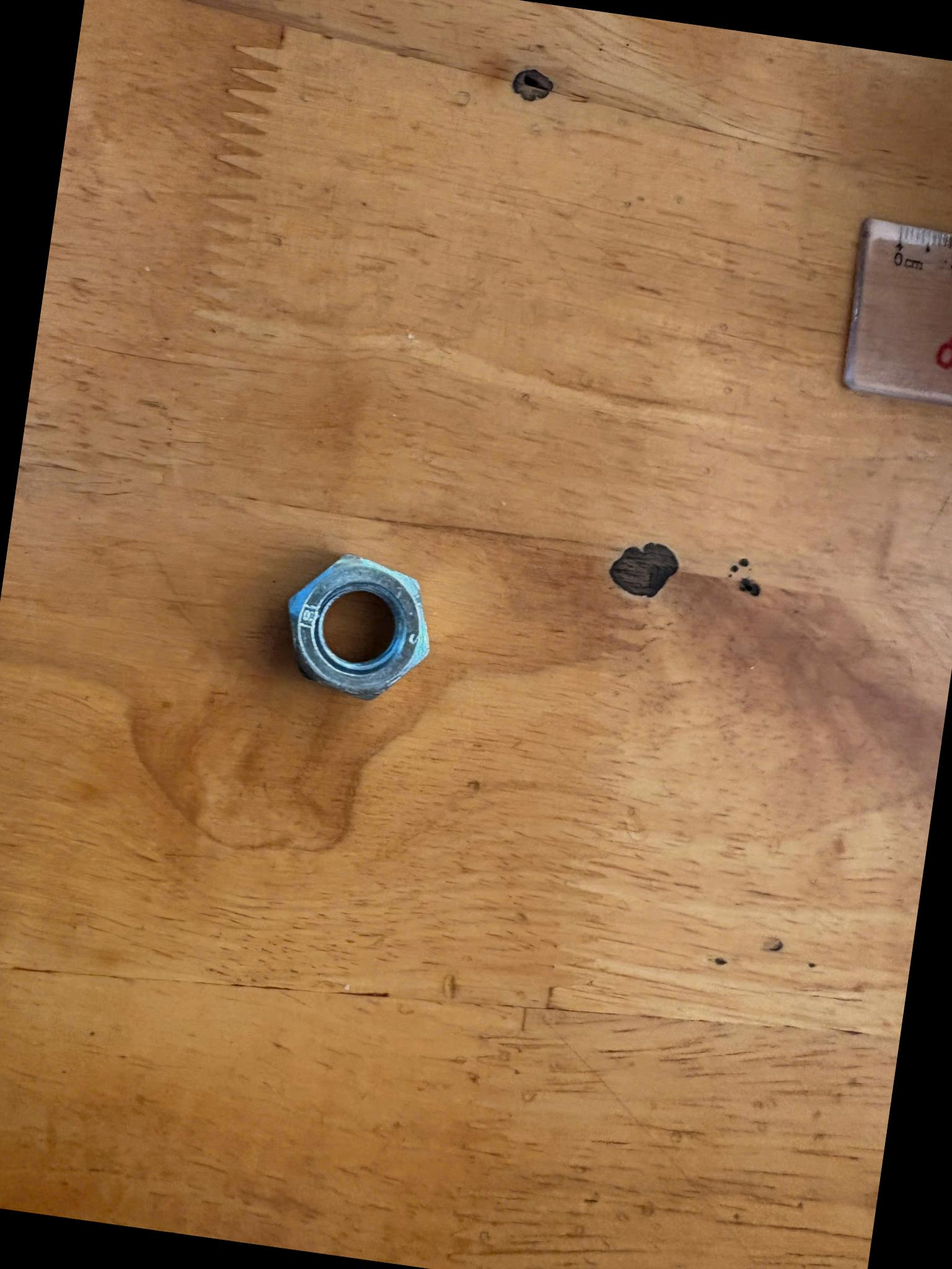nut: (262, 529, 471, 756)
